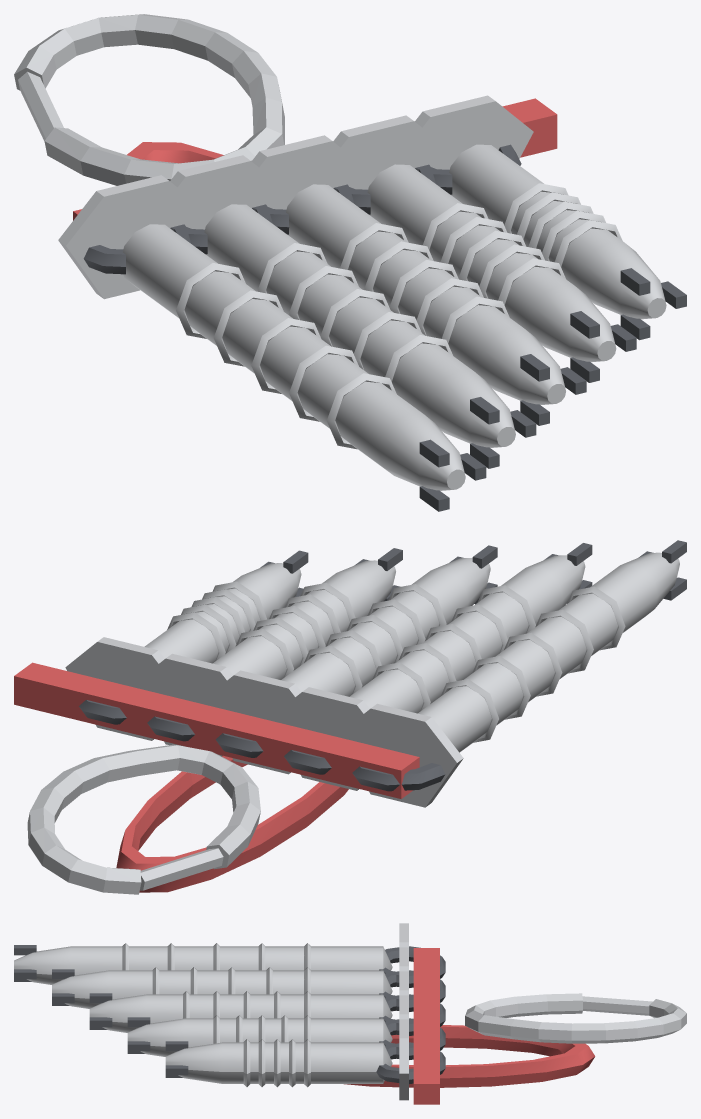
Rendered from mountaineering-and-summit-expedition-ice-screw-cluster-7d4796fd__18806.glb.
3 renders of one model, top to bottom at view 1: azimuth 30°, elevation 25°; view 2: azimuth 150°, elevation 25°; view 3: azimuth 270°, elevation 25°, orthographic. The views are drawn at different scales.
Parts seen in each view (by area): view 1: ice-screw-cluster; view 2: ice-screw-cluster; view 3: ice-screw-cluster.
Boxes of the visible parts, x1=… form: ice-screw-cluster: x1=14, y1=14, x2=686, y2=511; ice-screw-cluster: x1=14, y1=540, x2=686, y2=894; ice-screw-cluster: x1=14, y1=923, x2=686, y2=1104.
Bounding box in the file's own units: 0.185 × 0.0501 × 0.3554.
